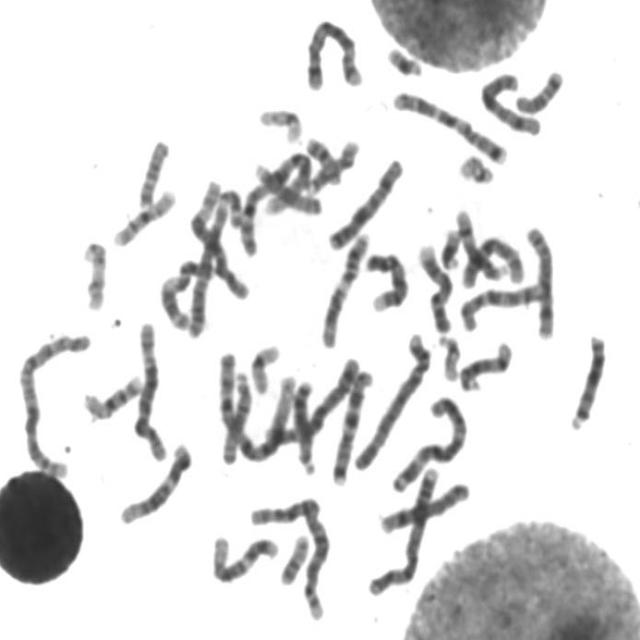A1: (212, 345, 301, 465), (235, 145, 316, 259)
A2: (14, 324, 94, 479), (244, 488, 333, 622)
A3: (183, 183, 242, 338), (386, 388, 470, 494)
B4: (349, 326, 433, 472), (363, 460, 443, 598)
B5: (259, 350, 363, 448), (301, 11, 367, 91)
C10: (454, 273, 552, 334), (459, 230, 532, 292)
C11: (316, 224, 373, 351), (155, 251, 204, 333)
C12: (114, 435, 194, 527), (206, 526, 282, 586)
C6: (184, 175, 252, 303), (129, 314, 169, 464)
C7: (388, 84, 511, 165), (326, 362, 377, 486)
C8: (375, 474, 473, 536), (520, 218, 559, 340)
C9: (413, 236, 455, 334), (360, 244, 412, 313)
D13: (564, 327, 610, 432), (289, 371, 321, 476)
D14: (451, 202, 508, 282), (454, 334, 516, 394)
D15: (250, 156, 324, 218), (216, 364, 256, 464)
E16: (108, 182, 179, 248), (77, 367, 146, 422)
E17: (303, 133, 362, 196), (77, 232, 110, 313)
E18: (133, 132, 172, 210), (511, 62, 566, 114)
F19: (253, 100, 305, 145), (246, 336, 284, 395)
F20: (301, 131, 344, 187), (275, 528, 311, 587)
G21: (381, 40, 425, 78), (436, 222, 464, 271)
G22: (453, 147, 498, 186), (433, 328, 464, 383)
X: (324, 152, 406, 252), (476, 65, 544, 137)
